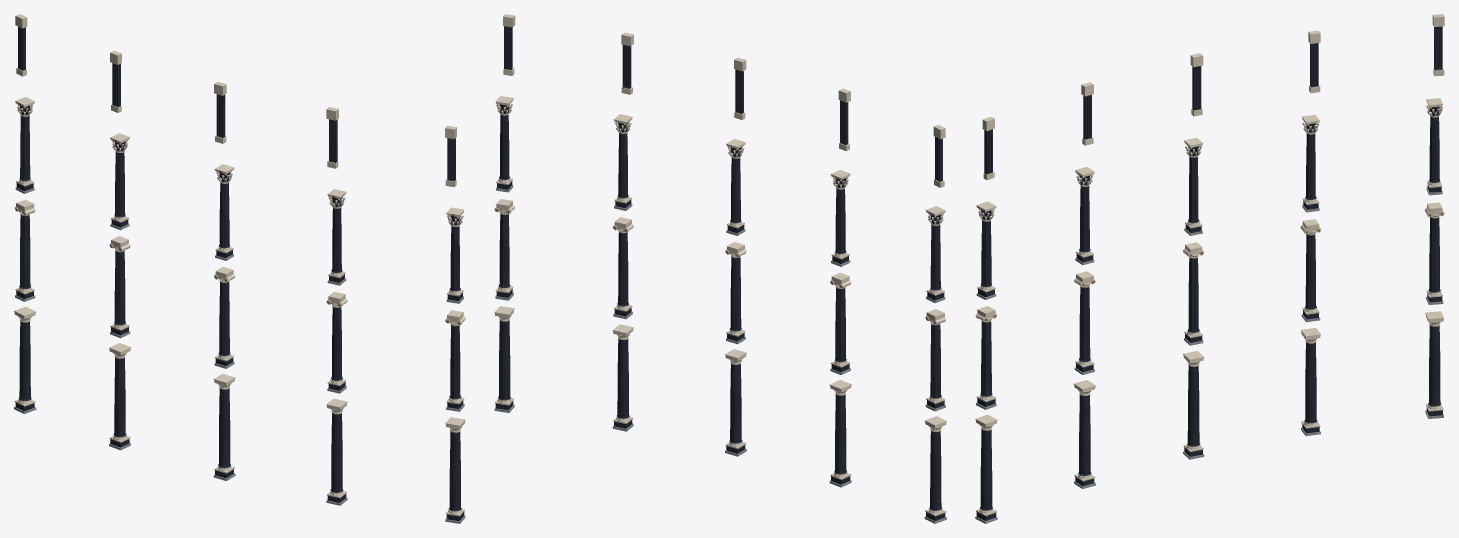
File: COL_ColumnOrders_O4.glb
3 renders of one model, left to right at view 1: azimuth 30°, elevation 25°; view 2: azimuth 210°, elevation 25°; view 3: azimuth 270°, elevation 25°, orthographic.
Parts seen in each view (by area): view 1: COL_ColumnOrders_O4; view 2: COL_ColumnOrders_O4; view 3: COL_ColumnOrders_O4.
Part boxes in pixels (<box>): COL_ColumnOrders_O4: <box>14,14,465,523</box>; COL_ColumnOrders_O4: <box>494,14,946,523</box>; COL_ColumnOrders_O4: <box>975,14,1444,523</box>.
Size of the model in its own units: 35.33 by 58.2 by 62.16.
Materials: 4 (4 with a texture image).
